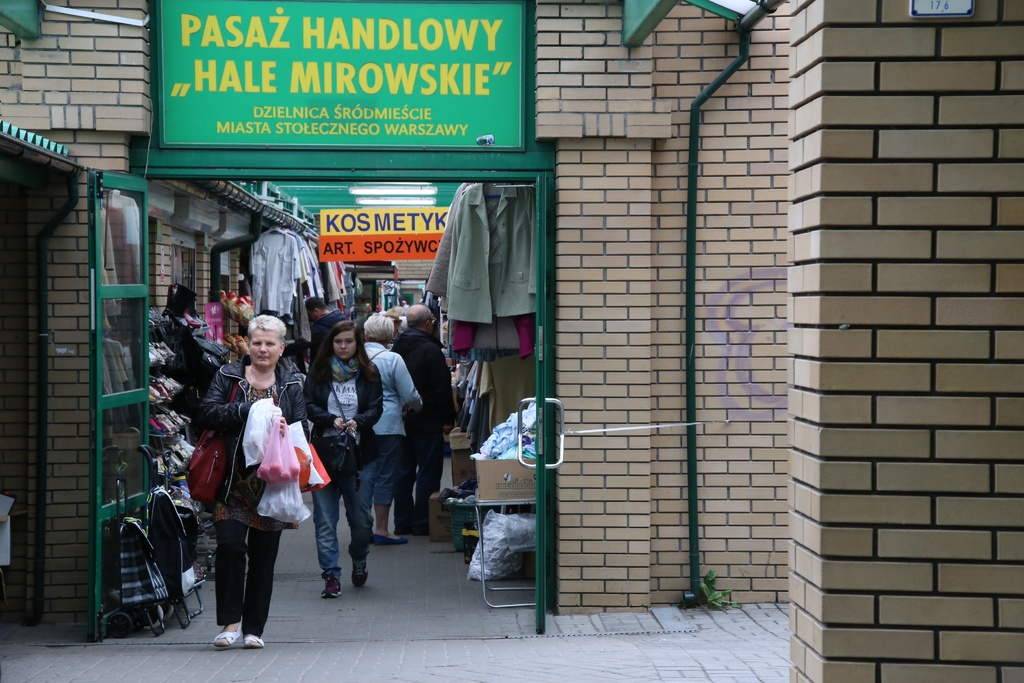Footwear: (212, 617, 245, 646), (349, 543, 367, 588), (321, 579, 341, 598), (372, 532, 406, 543), (246, 630, 262, 647)
